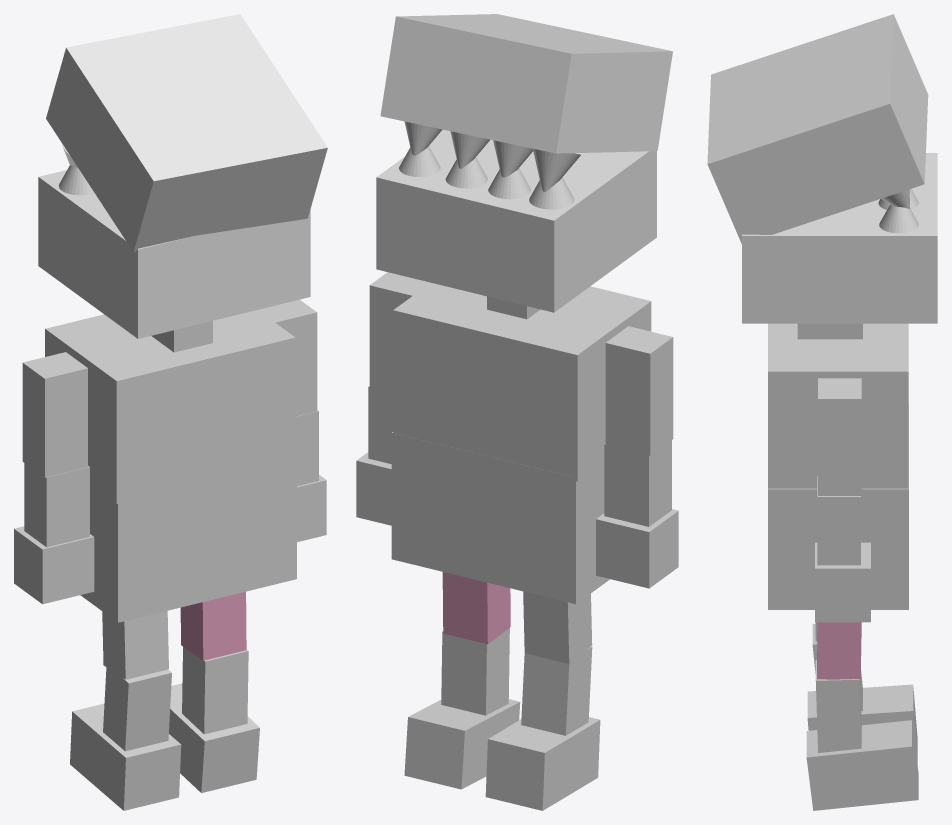
The model's file is Chompie Chompers.glb.
The picture shows the model from 3 angles, left to right: view 1: azimuth 30°, elevation 25°; view 2: azimuth 150°, elevation 25°; view 3: azimuth 270°, elevation 25°; orthographic projection. The views are drawn at different scales.
Parts seen in each view (by area): view 1: Cube.001, Cube.002, Cube, Cube.003, Cube.005, Cube.012, Cube.019, Cube.017, Cube.014, Cube.007, Cube.006, Cube.015 (+5 smaller); view 2: Cube.001, Cube, Cube.002, Cube.003, Cube.005, Cube.012, Cube.019, Cube.007, Cube.014, Cube.017, Cube.006, Cube.015 (+5 smaller); view 3: Cube.001, Cube, Cube.002, Cube.003, Cube.019, Cube.010, Cube.008, Cube.017, Cube.009, Cube.016, Cube.012, Cube.004.
Part boxes in pixels (x1=…): Cube.001: x1=46, y1=14, x2=327, y2=252; Cube.002: x1=45, y1=310, x2=295, y2=503; Cube: x1=38, y1=165, x2=310, y2=338; Cube.003: x1=80, y1=456, x2=296, y2=622; Cube.005: x1=22, y1=352, x2=87, y2=477; Cube.012: x1=70, y1=703, x2=181, y2=810; Cube.019: x1=169, y1=683, x2=259, y2=792; Cube.017: x1=182, y1=647, x2=248, y2=734; Cube.014: x1=103, y1=667, x2=171, y2=751; Cube.007: x1=14, y1=526, x2=94, y2=604; Cube.006: x1=24, y1=463, x2=89, y2=547; Cube.015: x1=102, y1=611, x2=168, y2=679; Cube.001: x1=380, y1=14, x2=672, y2=191; Cube: x1=376, y1=129, x2=656, y2=312; Cube.002: x1=393, y1=283, x2=651, y2=481; Cube.003: x1=391, y1=432, x2=609, y2=604; Cube.005: x1=605, y1=326, x2=673, y2=455; Cube.012: x1=485, y1=717, x2=600, y2=810; Cube.019: x1=404, y1=699, x2=520, y2=789; Cube.007: x1=596, y1=509, x2=678, y2=588; Cube.014: x1=521, y1=646, x2=592, y2=735; Cube.017: x1=441, y1=628, x2=509, y2=715; Cube.006: x1=604, y1=440, x2=671, y2=526; Cube.015: x1=523, y1=591, x2=592, y2=663; Cube.001: x1=707, y1=14, x2=928, y2=243; Cube: x1=742, y1=153, x2=937, y2=323; Cube.002: x1=768, y1=323, x2=908, y2=488; Cube.003: x1=768, y1=404, x2=908, y2=609; Cube.019: x1=806, y1=720, x2=918, y2=810; Cube.010: x1=818, y1=378, x2=861, y2=496; Cube.008: x1=815, y1=542, x2=870, y2=622; Cube.017: x1=815, y1=660, x2=861, y2=752; Cube.009: x1=817, y1=476, x2=860, y2=565; Cube.016: x1=817, y1=622, x2=861, y2=679; Cube.012: x1=807, y1=684, x2=917, y2=764; Cube.004: x1=797, y1=323, x2=862, y2=339.
Bounding box in the file's own units: 13.13 × 32.6 × 9.37.
